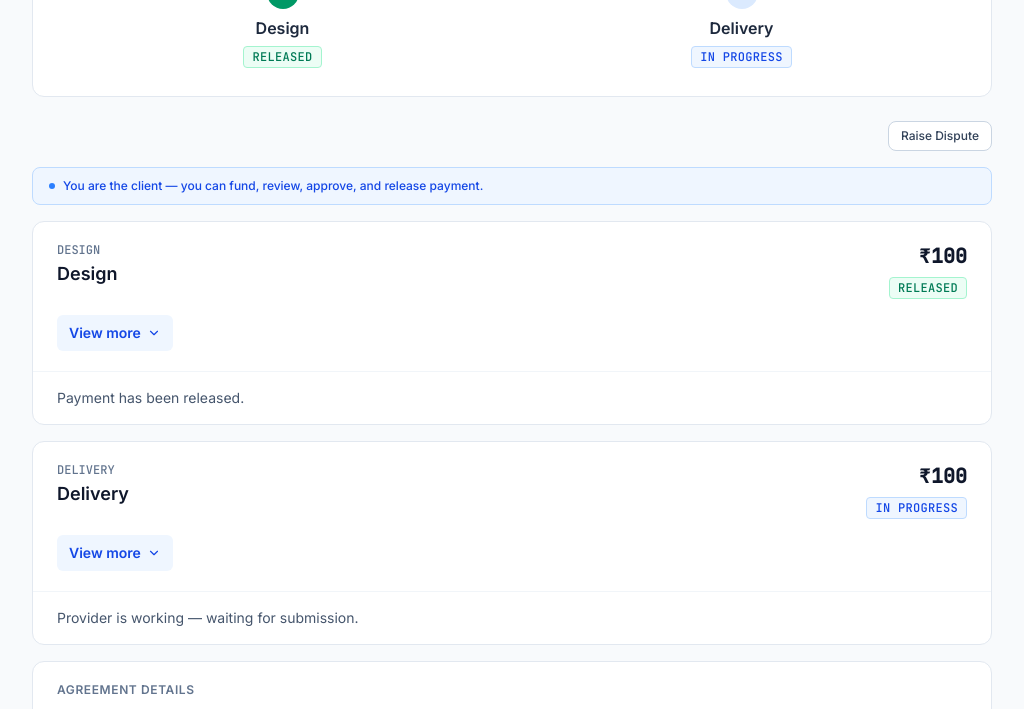
Test: escrow dispute creation form › shows ordered checkpoints and updates progress from each milestone's own state
Later steps or results of the test are not shown.
(page scrolled)
Check: the links read "Design", "Delivery", in this order, box 256,18 -> 309,38; 710,18 -> 774,38
Click the button with aria-label "View more for Design".
click(115, 333)  # box 57,315 -> 173,351
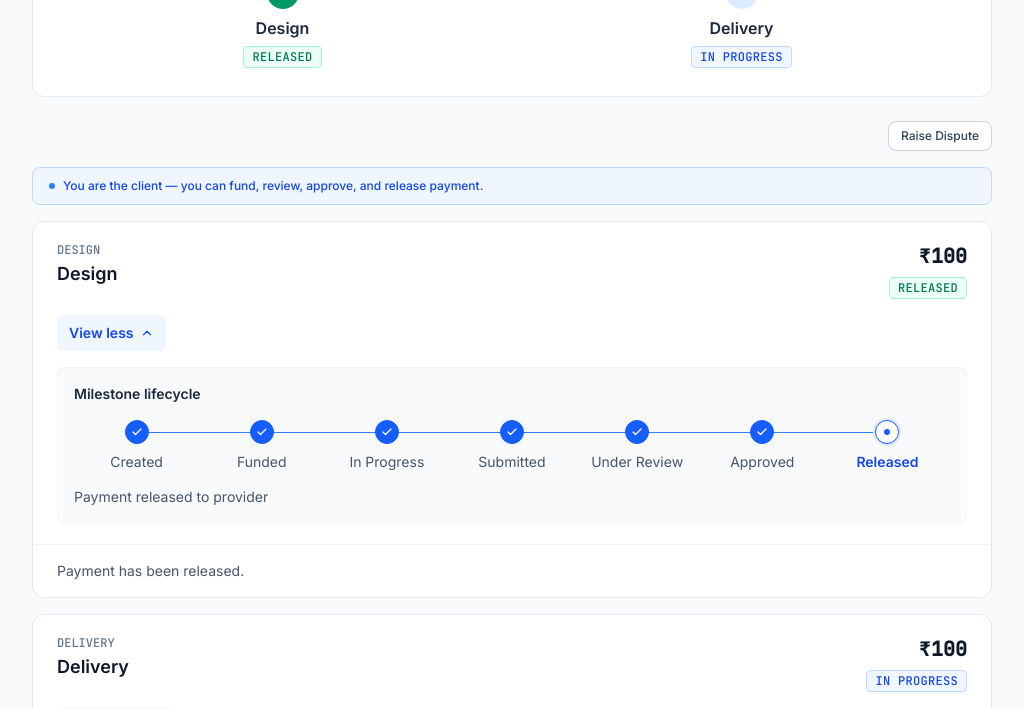
Click the button with aria-label "View less for Design".
click(111, 333)  # box 57,315 -> 166,351
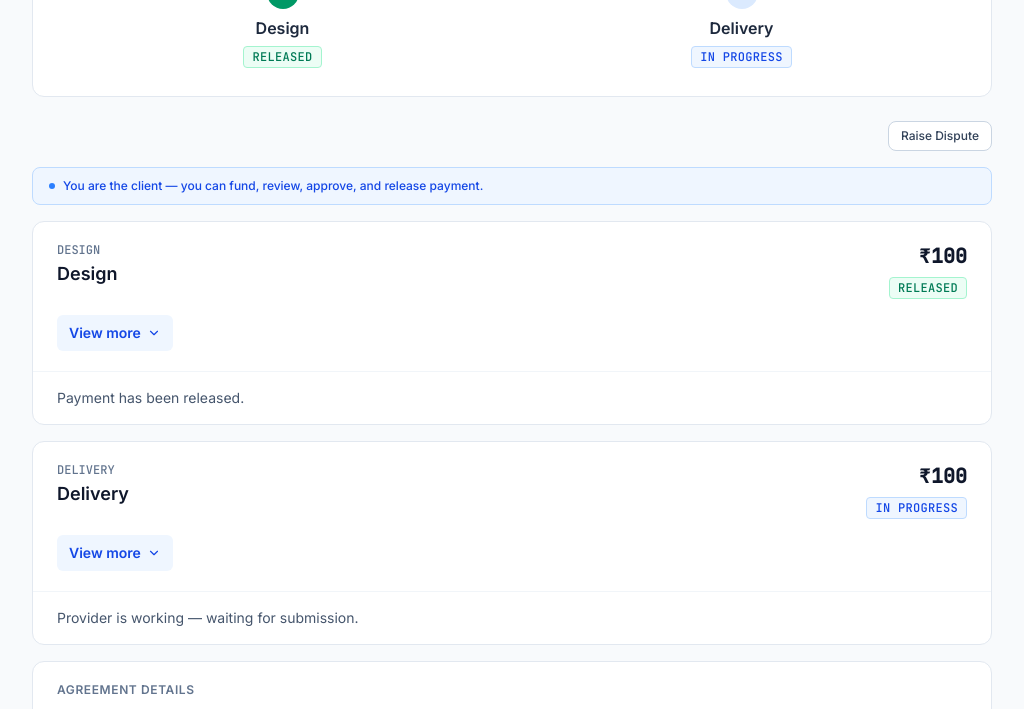
Click the link "Delivery".
click(742, 28)  # box 710,18 -> 774,38
(page scrolled)
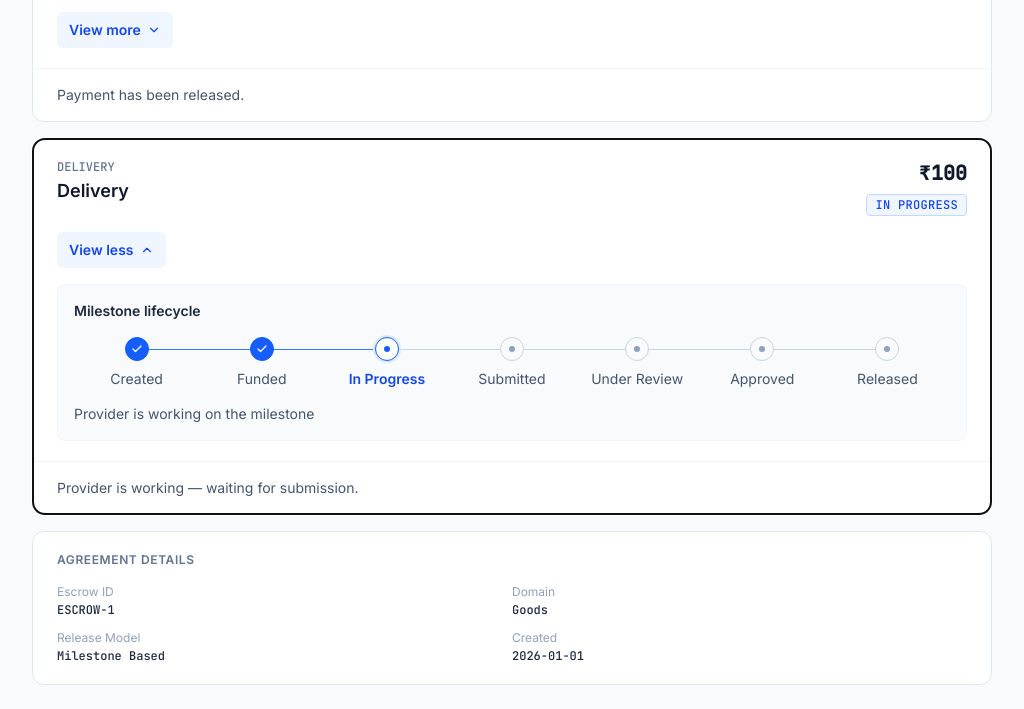
Check: the button with aria-label "View less for Delivery" is expanded, box 57,232 -> 166,268
